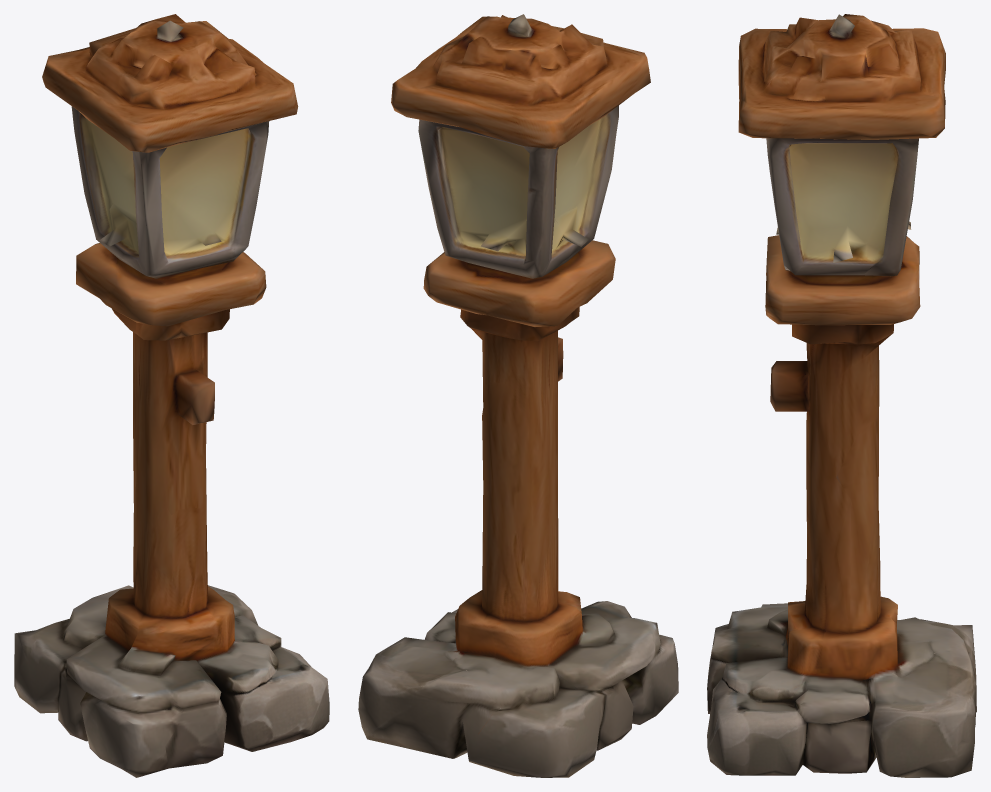
Rendered from textures.glb.
The picture shows the model from 3 angles, left to right: view 1: azimuth 30°, elevation 25°; view 2: azimuth 150°, elevation 25°; view 3: azimuth 270°, elevation 25°; orthographic projection. The views are drawn at different scales.
Visible parts, largest first — view 1: tripo_node_f23b7b64-c198-4c78-87fe-532fbdf7afb6; view 2: tripo_node_f23b7b64-c198-4c78-87fe-532fbdf7afb6; view 3: tripo_node_f23b7b64-c198-4c78-87fe-532fbdf7afb6.
Part boxes in pixels (x1,y1,x2,y2): tripo_node_f23b7b64-c198-4c78-87fe-532fbdf7afb6: (14, 14, 329, 777); tripo_node_f23b7b64-c198-4c78-87fe-532fbdf7afb6: (358, 14, 678, 777); tripo_node_f23b7b64-c198-4c78-87fe-532fbdf7afb6: (707, 14, 976, 777).
Size of the model in its own units: 0.3211 by 1 by 0.3437.
1 material, 1 textured.
